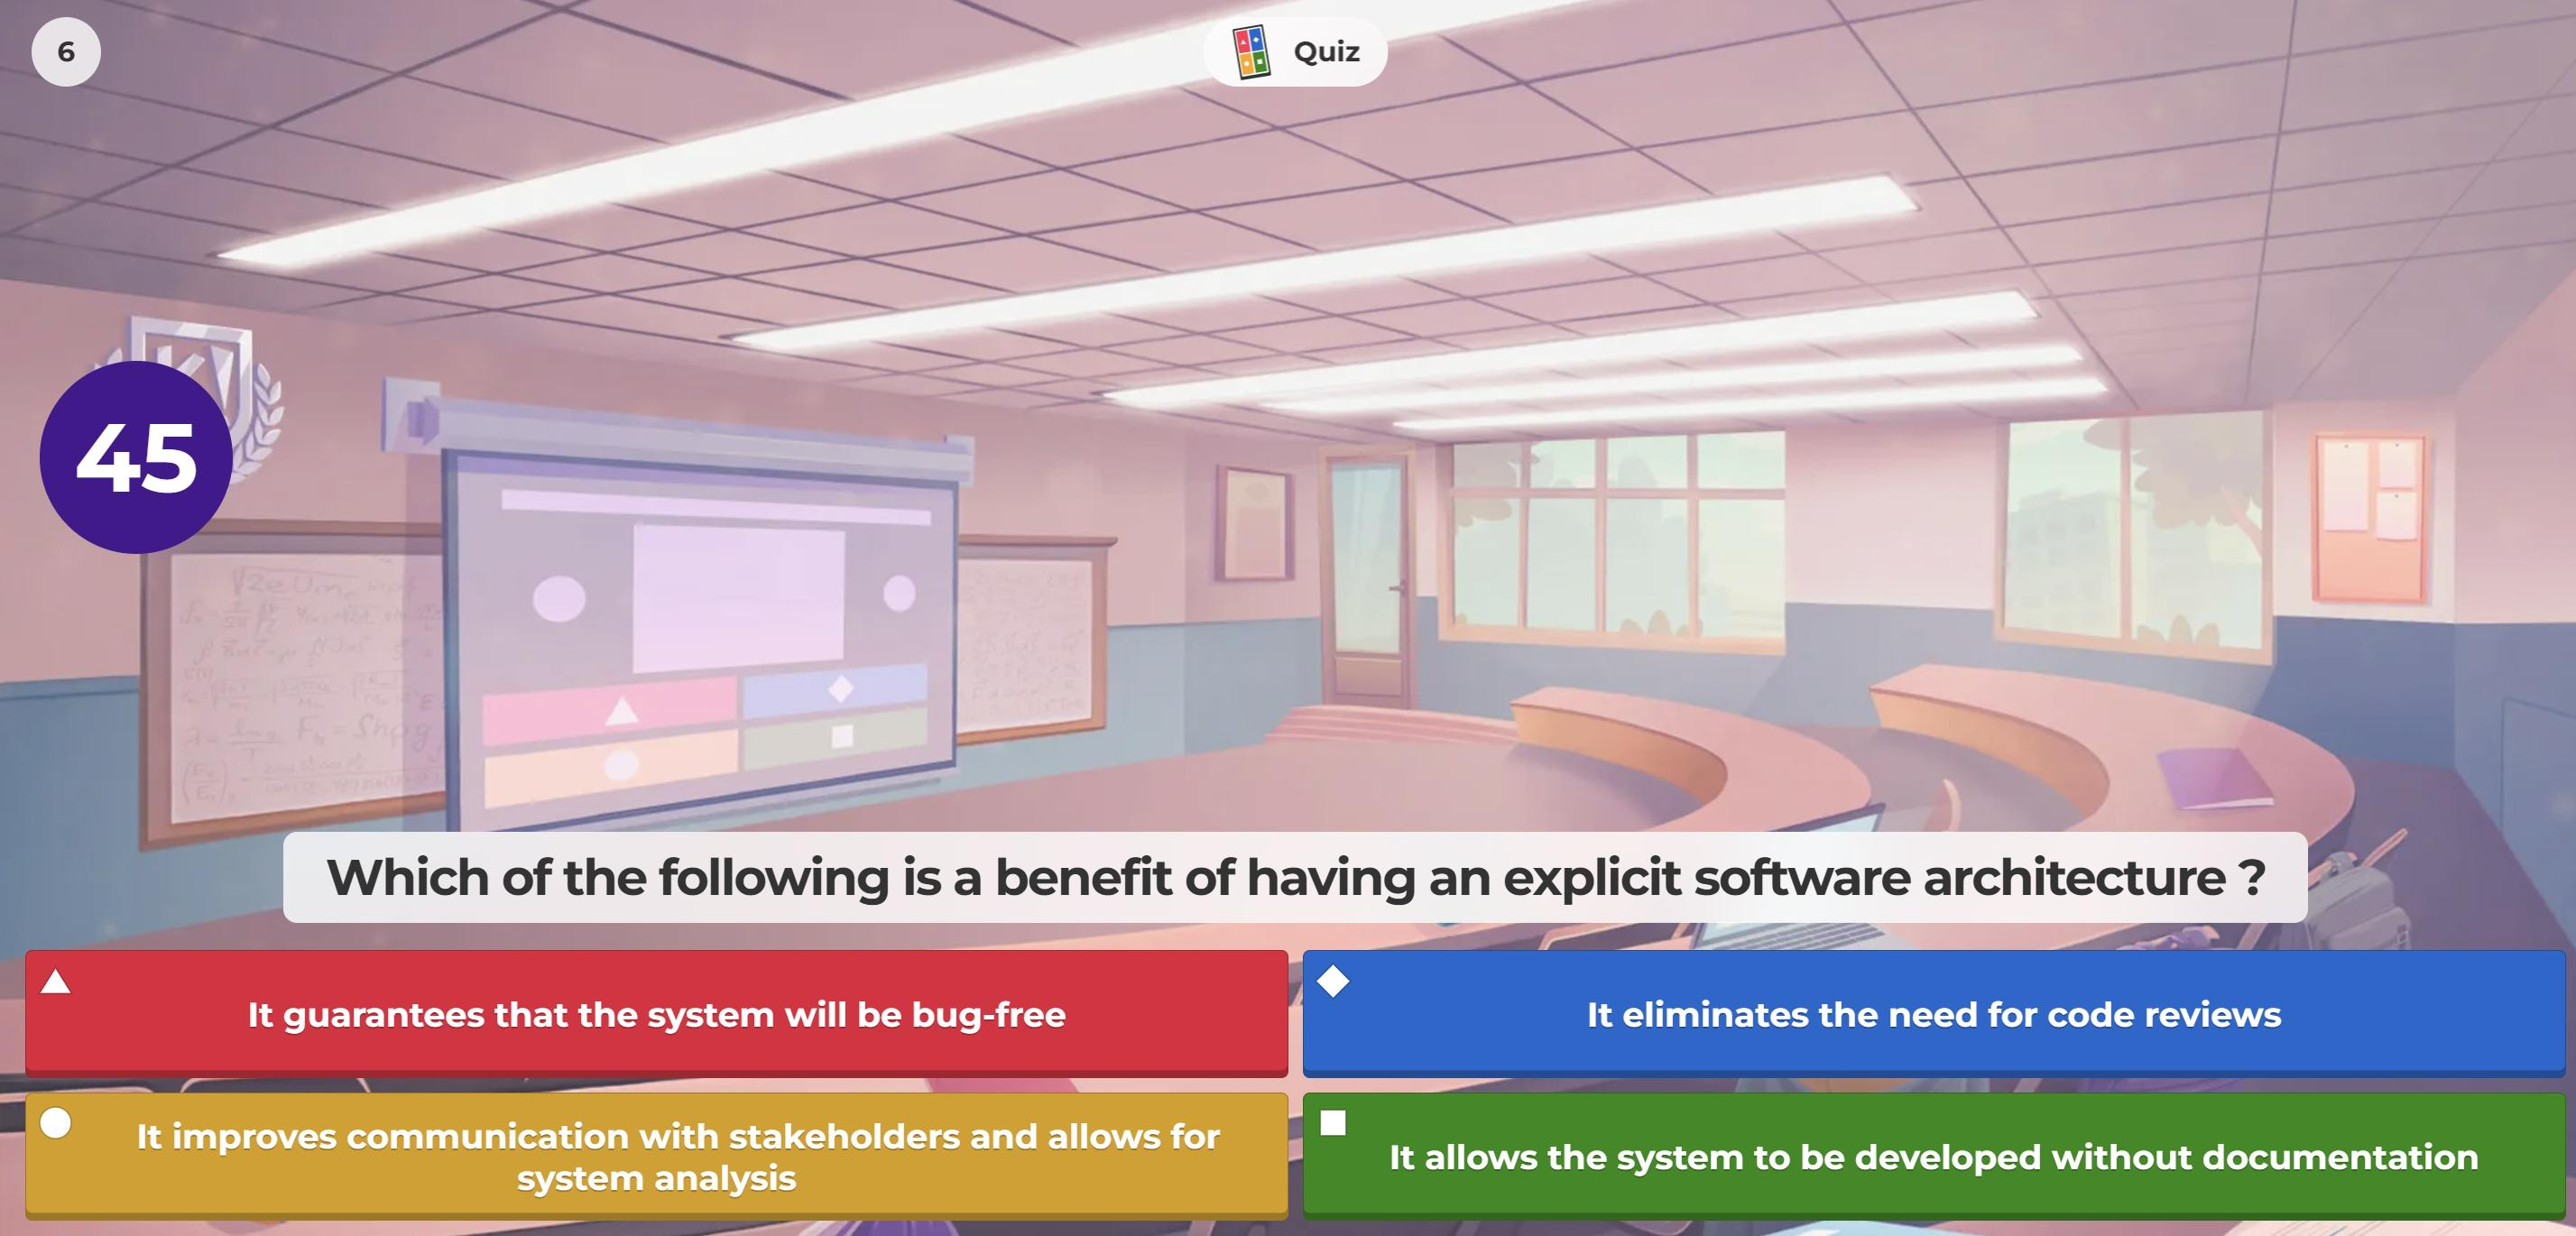answer_blue: (1308, 955, 2561, 1060)
answer_green: (1308, 1101, 2561, 1213)
answer_red: (26, 955, 1283, 1068)
answer_yellow: (26, 1096, 1281, 1210)
question_box: (291, 833, 2307, 922)
